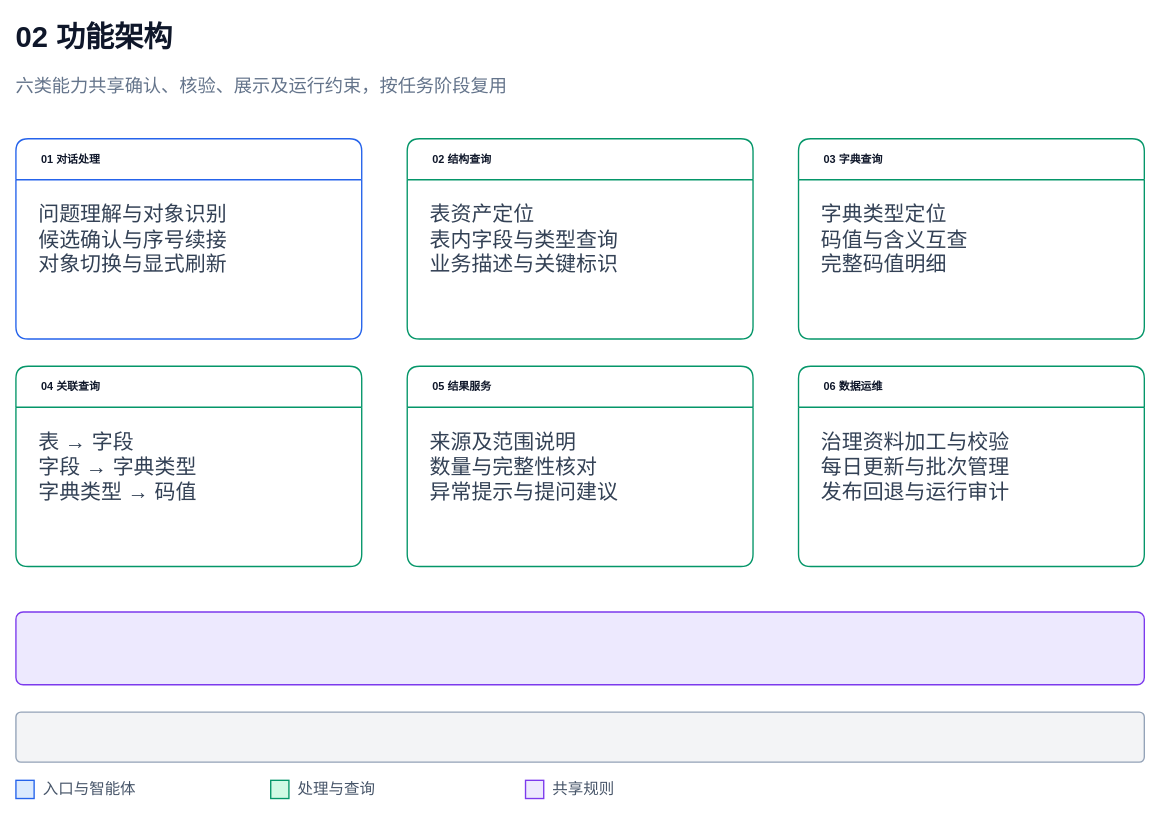
This 1161x818 diagram has some shape labels left out. The centre of each missing label's shape, as x and y in pixels:
"共享规则 / 对象有歧义先确认 · 事实经过数据库核验 · 原始码值不改写 · 查询有限退出" belongs at pixel 580 648.
"阅读方式：本图表示功能分工；具体调用先后顺序见在线查询流程与每日更新流程。" belongs at pixel 580 736.
